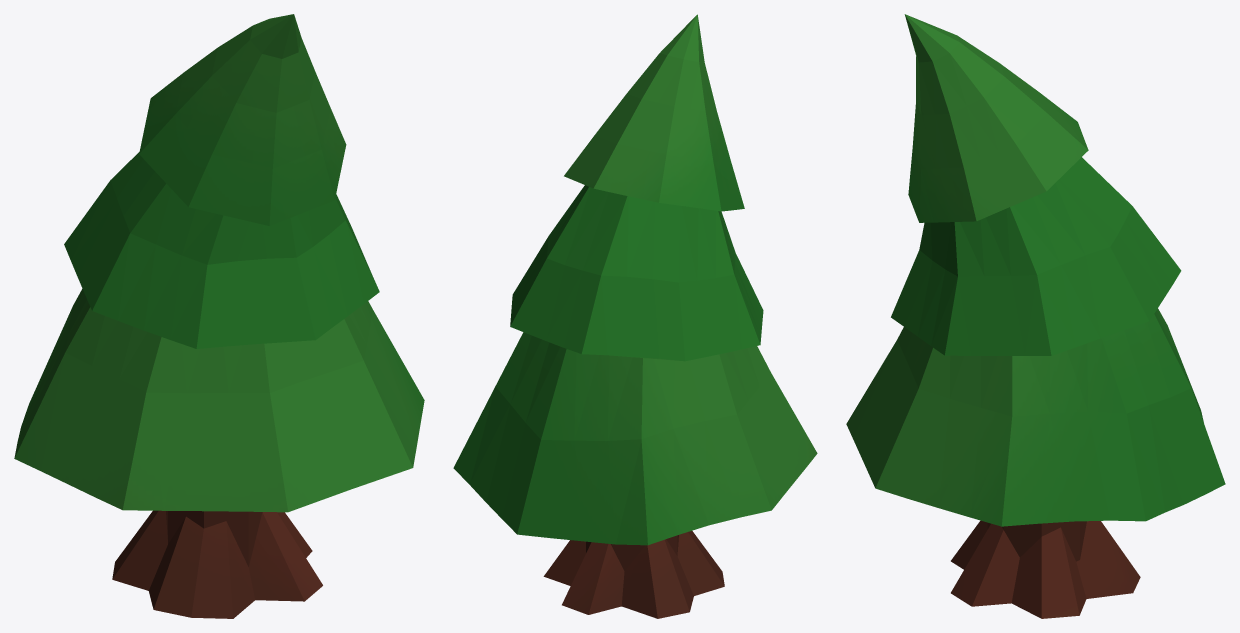
Rendered from tree.obj.
The picture shows the model from 3 angles, left to right: view 1: azimuth 30°, elevation 25°; view 2: azimuth 150°, elevation 25°; view 3: azimuth 270°, elevation 25°; orthographic projection. The views are drawn at different scales.
Parts seen in each view (by area): view 1: 円錐; view 2: 円錐; view 3: 円錐.
Part boxes in pixels (left/top/right/bottom): 円錐: left=14, top=14, right=424, bottom=618; 円錐: left=453, top=14, right=817, bottom=618; 円錐: left=846, top=14, right=1225, bottom=618.
Bounding box in the file's own units: 3.05 × 4.89 × 2.98.
